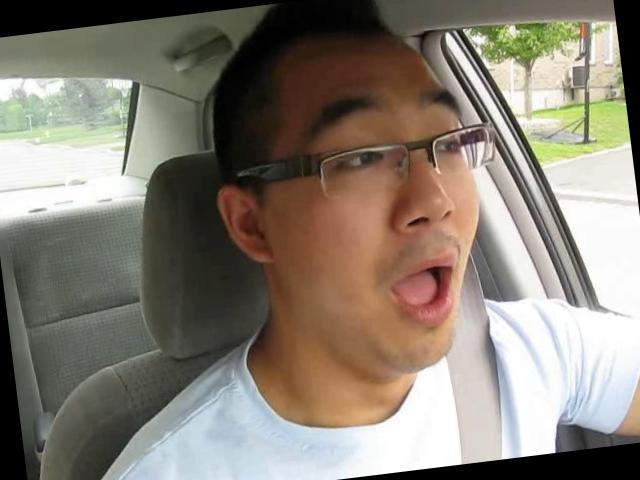eye_open: (324, 140, 398, 184), (434, 132, 471, 166)
face: (264, 86, 506, 390)
mouth_open: (378, 245, 470, 335)
